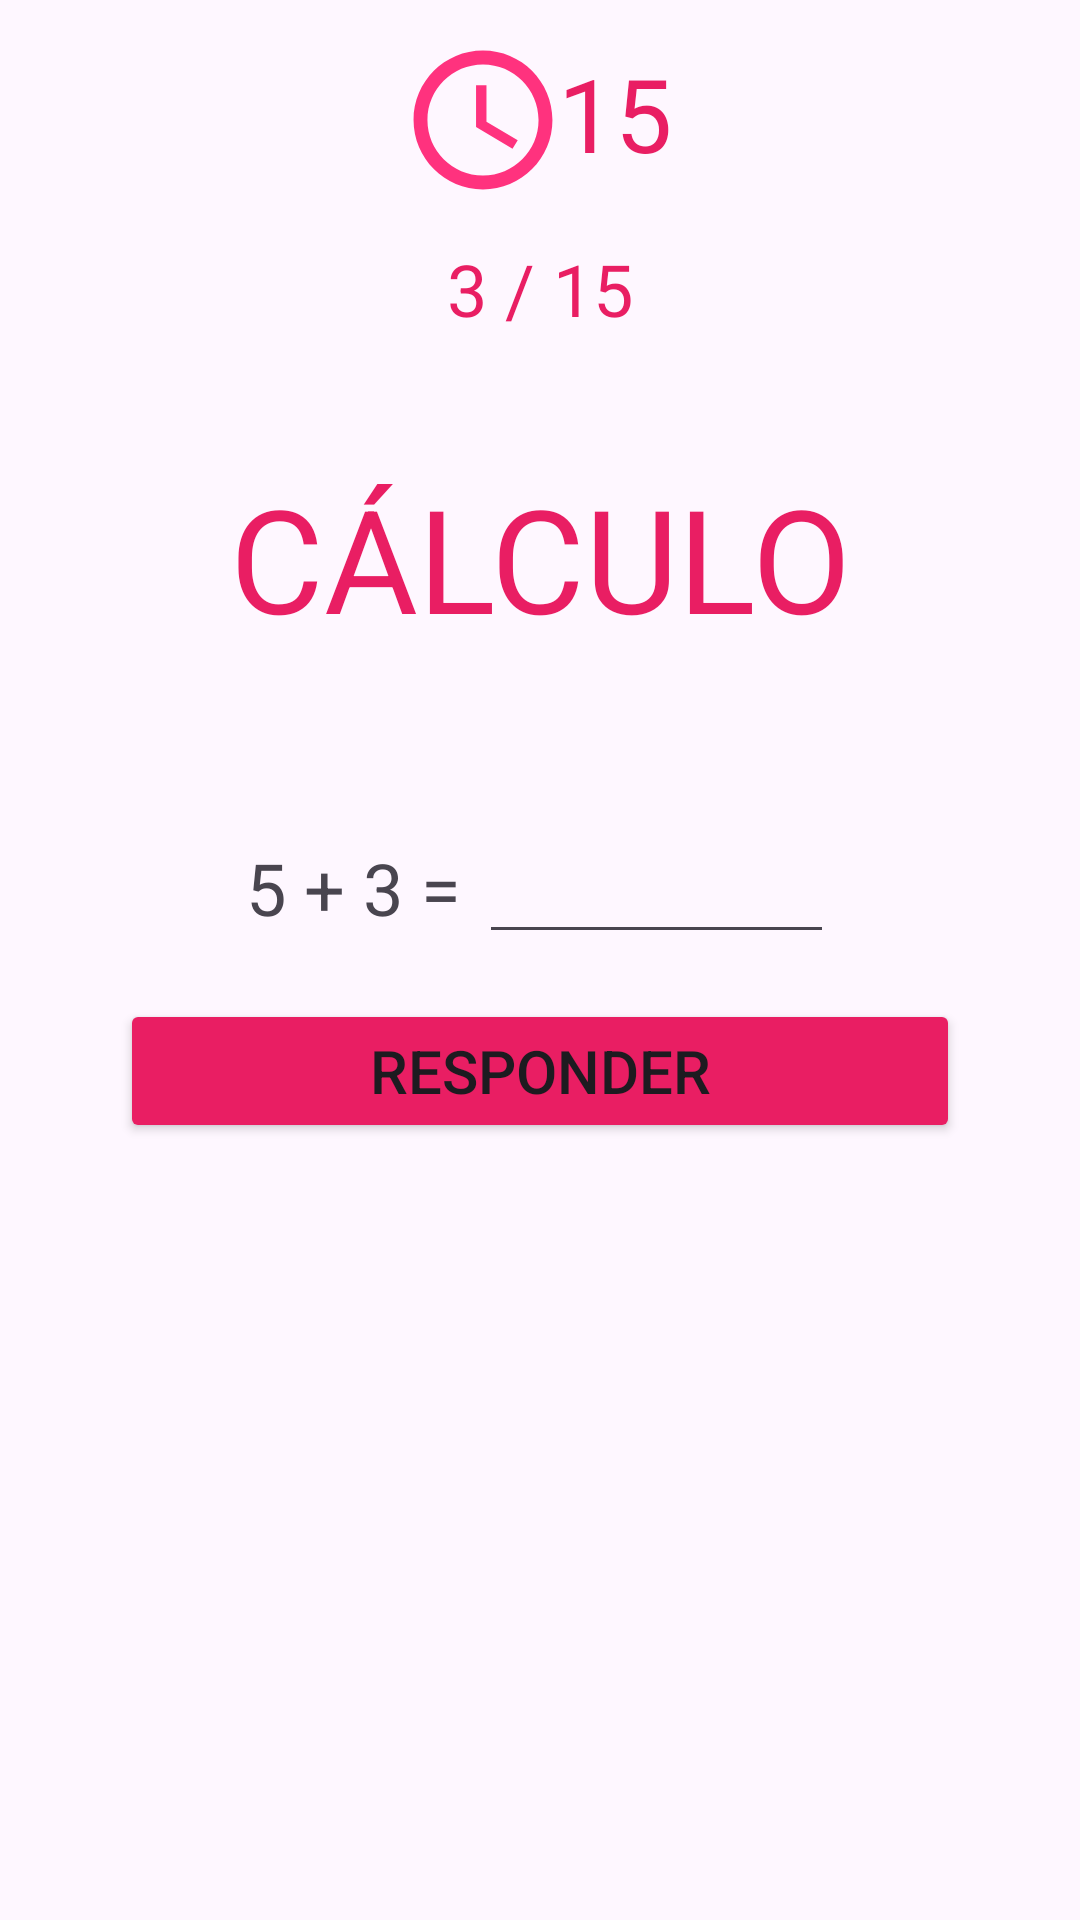

Point at icon controls on the screen. Image size 1080px x 1920px, points as (x=x, y=y).
timer: (x=483, y=120)
